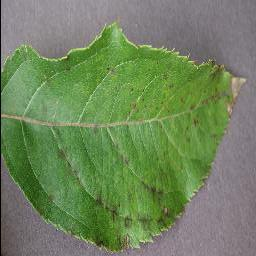apple healthy: (0, 20, 242, 253)
